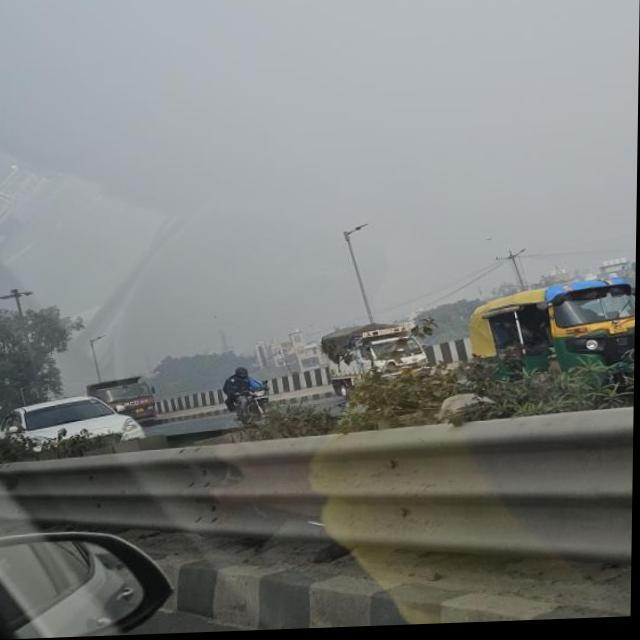covered: (301, 328, 432, 386)
uncovered: (84, 377, 166, 422)
